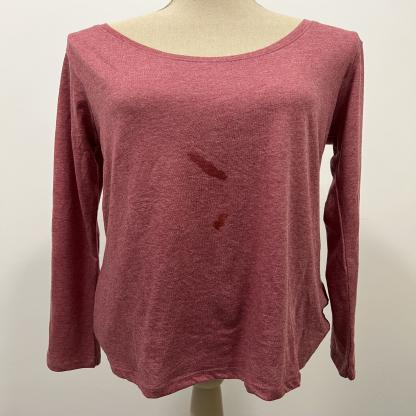stain: (183, 150, 231, 182), (209, 210, 233, 234)
